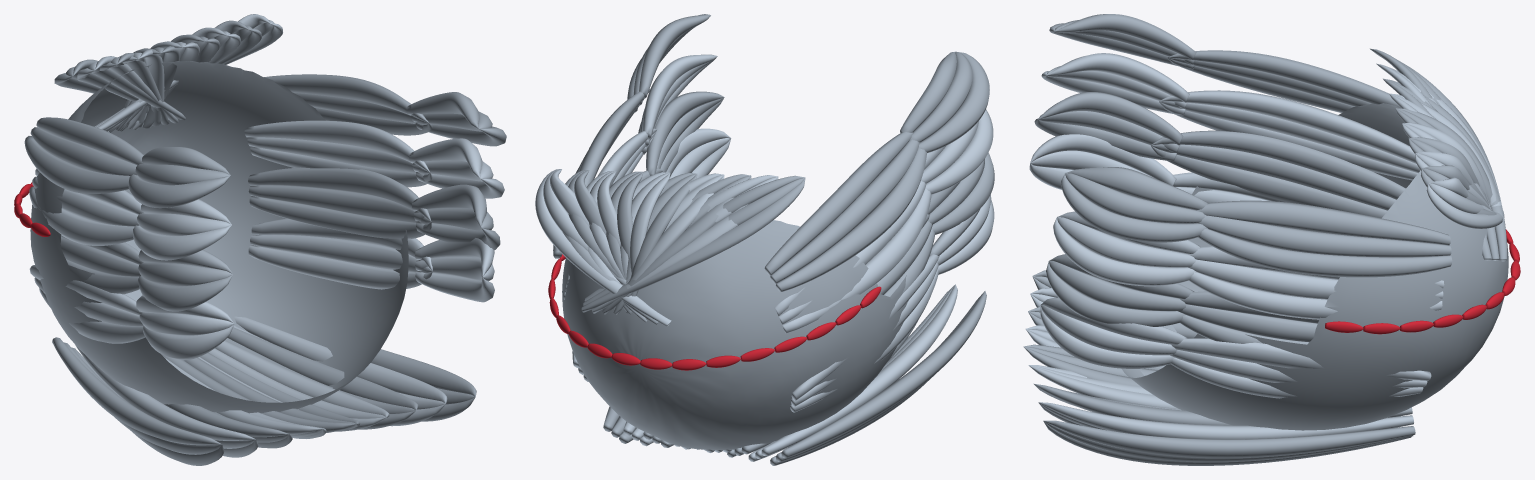
3 views of the same model, side by side, from view 1: azimuth 30°, elevation 25°; view 2: azimuth 150°, elevation 25°; view 3: azimuth 270°, elevation 25° (orthographic). The views are drawn at different scales.
Parts seen in each view (by area): view 1: CrownHair_ref11, SideHair_Upper_1_2_Strand2, SideHair_Upper_1_1_Strand2, SideHair_Upper_1_3_Strand0, BackHair_00_Strand0, SideHair_Upper_1_3_Strand1, SideHair_Upper_1_2_Strand0, SideHair_Upper_1_2_Strand1, BackHair_06_Strand2, BackHair_07_Strand2, SideHair_Upper_1_0_Strand2, SideHair_Upper_1_1_Strand1 (+60 smaller); view 2: CrownHair_ref11, BackHair_00_Strand0, SideHair_Upper_-1_0_Strand2, SideHair_Upper_-1_0_Strand0, SideHair_Upper_-1_0_Strand1, BackHair_01_Strand0, FrontHair_Sweep_00_Strand2, SideHair_Upper_-1_1_Strand2, SideHair_Wave_-1_0_Strand2, FrontHair_Sweep_09_Strand0, SideHair_Wave_-1_1_Strand2, SideHair_Wave_-1_0_Strand1 (+47 smaller); view 3: CrownHair_ref11, BackHair_08_Strand2, SideHair_Upper_1_0_Strand2, SideHair_Upper_1_0_Strand0, SideHair_Upper_1_0_Strand1, SideHair_Upper_-1_1_Strand0, SideHair_Upper_-1_2_Strand0, BackHair_07_Strand2, SideHair_Upper_-1_2_Strand1, SideHair_Upper_-1_2_Strand2, SideHair_Upper_-1_0_Strand0, SideHair_Upper_-1_1_Strand1 (+55 smaller).
Boxes of the visible parts, x1,y1,x2,y2 form: CrownHair_ref11: (30,61,408,413); SideHair_Upper_1_2_Strand2: (248,167,431,221); SideHair_Upper_1_1_Strand2: (244,120,429,172); SideHair_Upper_1_3_Strand0: (248,245,432,289); BackHair_00_Strand0: (52,337,221,445); SideHair_Upper_1_3_Strand1: (250,234,432,273); SideHair_Upper_1_2_Strand0: (249,196,431,238); SideHair_Upper_1_2_Strand1: (248,185,431,223); BackHair_06_Strand2: (227,327,418,410); BackHair_07_Strand2: (234,316,447,403); SideHair_Upper_1_0_Strand2: (264,74,428,122); SideHair_Upper_1_1_Strand1: (247,137,429,174); CrownHair_ref11: (562,220,908,449); BackHair_00_Strand0: (781,291,986,458); SideHair_Upper_-1_0_Strand2: (776,148,926,291); SideHair_Upper_-1_0_Strand0: (764,132,912,275); SideHair_Upper_-1_0_Strand1: (770,139,919,283); BackHair_01_Strand0: (761,284,957,455); FrontHair_Sweep_00_Strand2: (581,178,805,312); SideHair_Upper_-1_1_Strand2: (782,188,931,333); SideHair_Wave_-1_0_Strand2: (918,51,989,152); FrontHair_Sweep_09_Strand0: (535,169,671,326); SideHair_Wave_-1_1_Strand2: (925,109,993,194); SideHair_Wave_-1_0_Strand1: (909,52,972,142); CrownHair_ref11: (1122,103,1508,430); BackHair_08_Strand2: (1043,420,1415,458); SideHair_Upper_1_0_Strand2: (1197,200,1450,244); SideHair_Upper_1_0_Strand0: (1198,229,1452,277); SideHair_Upper_1_0_Strand1: (1197,215,1451,257); SideHair_Upper_-1_1_Strand0: (1159,90,1416,163); SideHair_Upper_-1_2_Strand0: (1151,130,1405,199); BackHair_07_Strand2: (1039,402,1413,439); SideHair_Upper_-1_2_Strand1: (1151,144,1396,210); SideHair_Upper_-1_2_Strand2: (1151,146,1387,218); SideHair_Upper_-1_0_Strand0: (1167,50,1401,108); SideHair_Upper_-1_1_Strand1: (1159,101,1420,173).
Size of the model in its own units: 0.6767 by 0.6404 by 0.8328.
